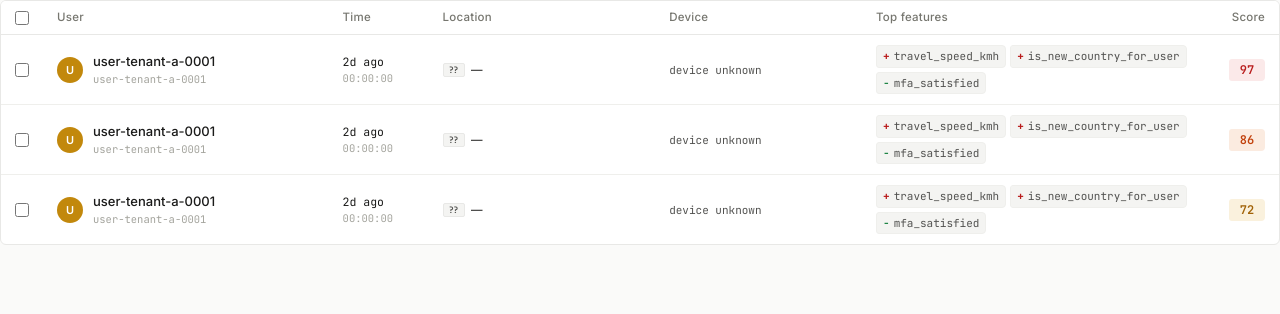
Test case: AnomalyList › shows bulk actions strip when at least one row is selected
Click the checkbox named "Select sign-in signin-1" at (22, 70), box [15,63,29,77]
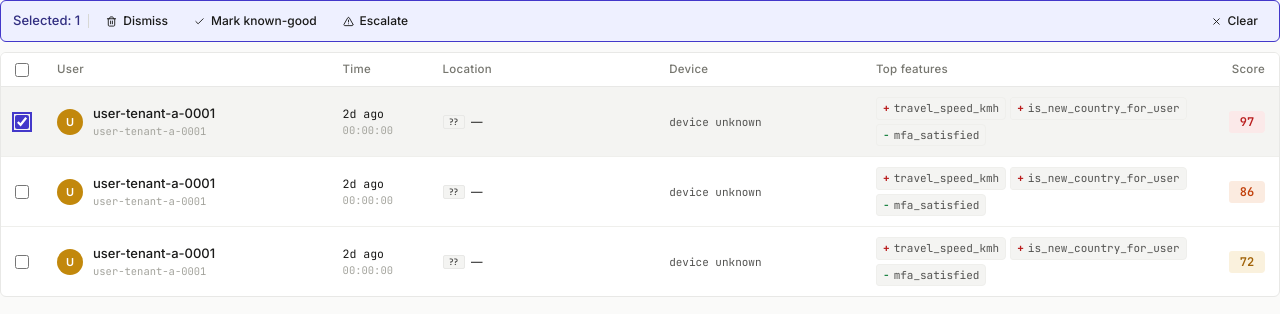
Expected: the element named "Bulk actions" is shown, [0,0,1279,42]
